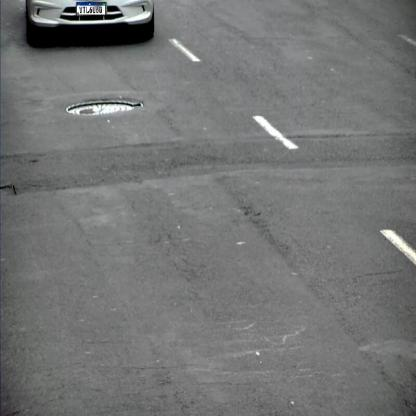PlacaM: (76, 2, 106, 15)
